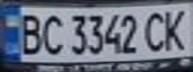2: (118, 10, 142, 55)
3: (63, 11, 87, 56), (84, 11, 106, 55)
4: (103, 10, 124, 55)
B: (15, 10, 45, 55)
C: (139, 8, 172, 54), (36, 11, 66, 55)
K: (157, 6, 193, 52)
